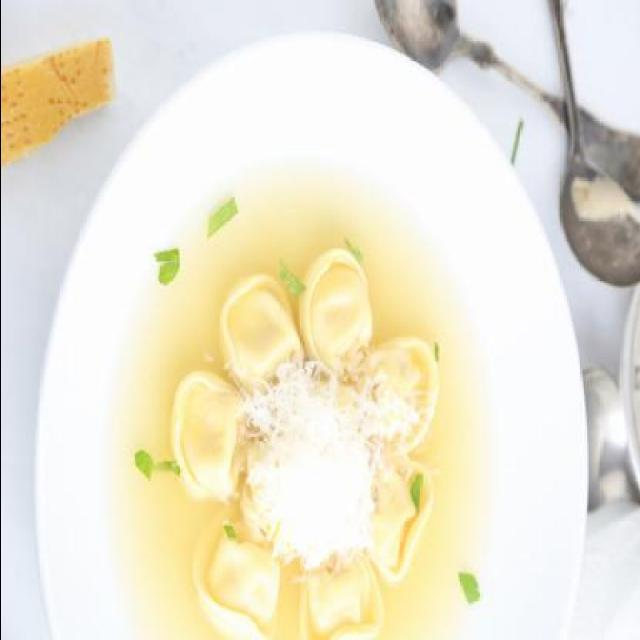Tortellini in broth: (144, 195, 462, 639)
